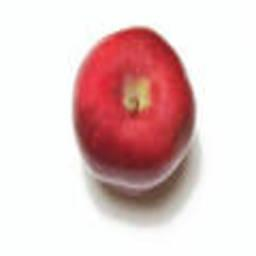apple: (70, 28, 199, 190)
